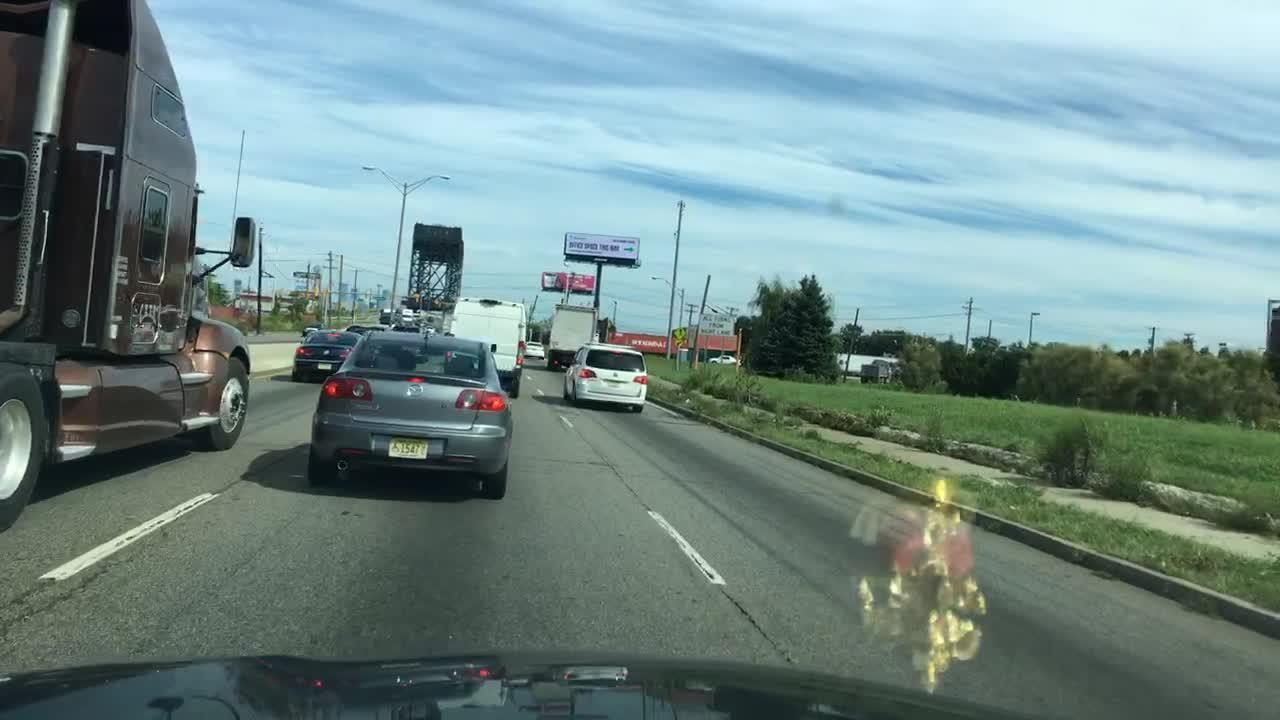Mazda: (398, 378, 434, 403)
